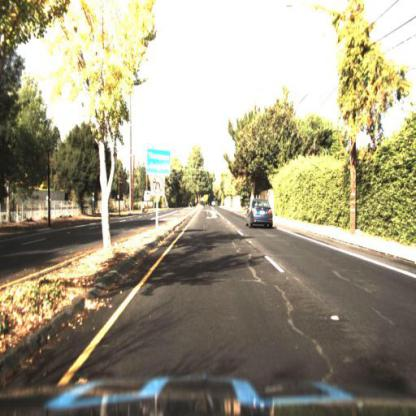car: (242, 198, 276, 233)
